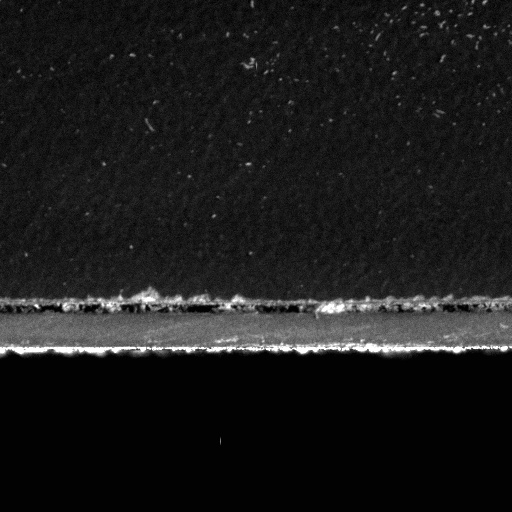jiaofeng: (6, 299, 218, 318), (253, 299, 319, 318), (434, 301, 493, 319)
